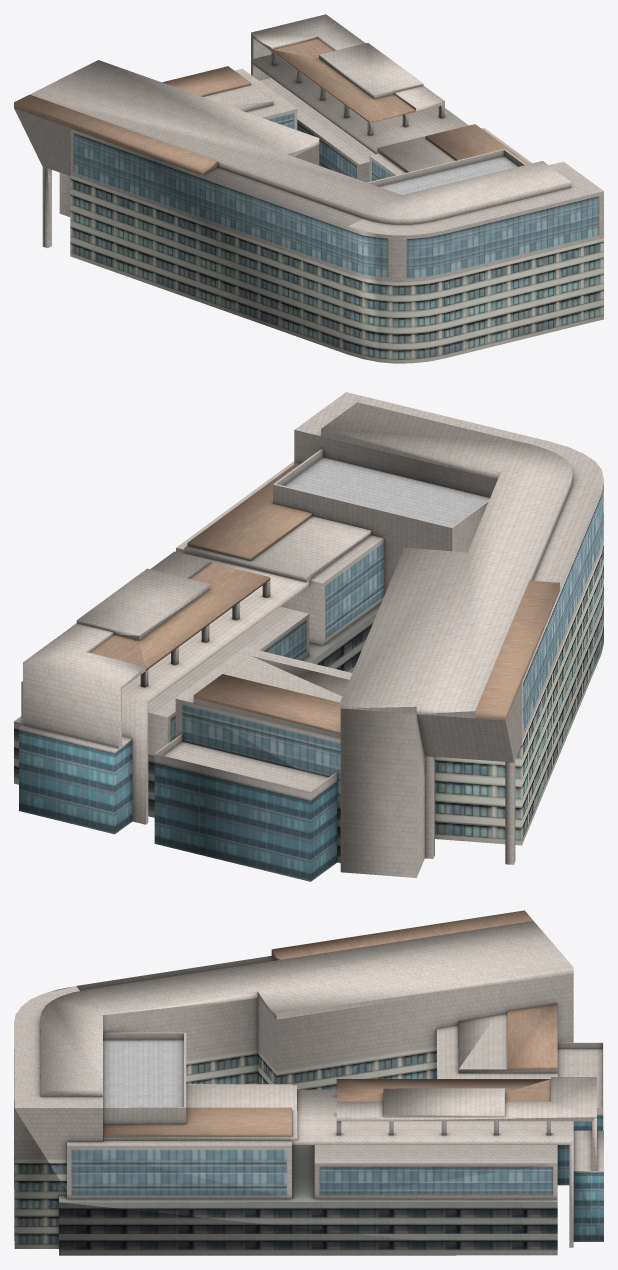
3 views of the same model, one above another, from view 1: azimuth 30°, elevation 25°; view 2: azimuth 150°, elevation 25°; view 3: azimuth 270°, elevation 25° (orthographic). The views are drawn at different scales.
Parts seen in each view (by area): view 1: MainBuilding; view 2: MainBuilding; view 3: MainBuilding.
Boxes of the visible parts, bbox=[...] form: MainBuilding: bbox=[14, 14, 603, 363]; MainBuilding: bbox=[14, 392, 603, 881]; MainBuilding: bbox=[14, 910, 603, 1255].
Size of the model in its own units: 5.32 by 1.84 by 6.7.
Materials: 1 (1 with a texture image).
